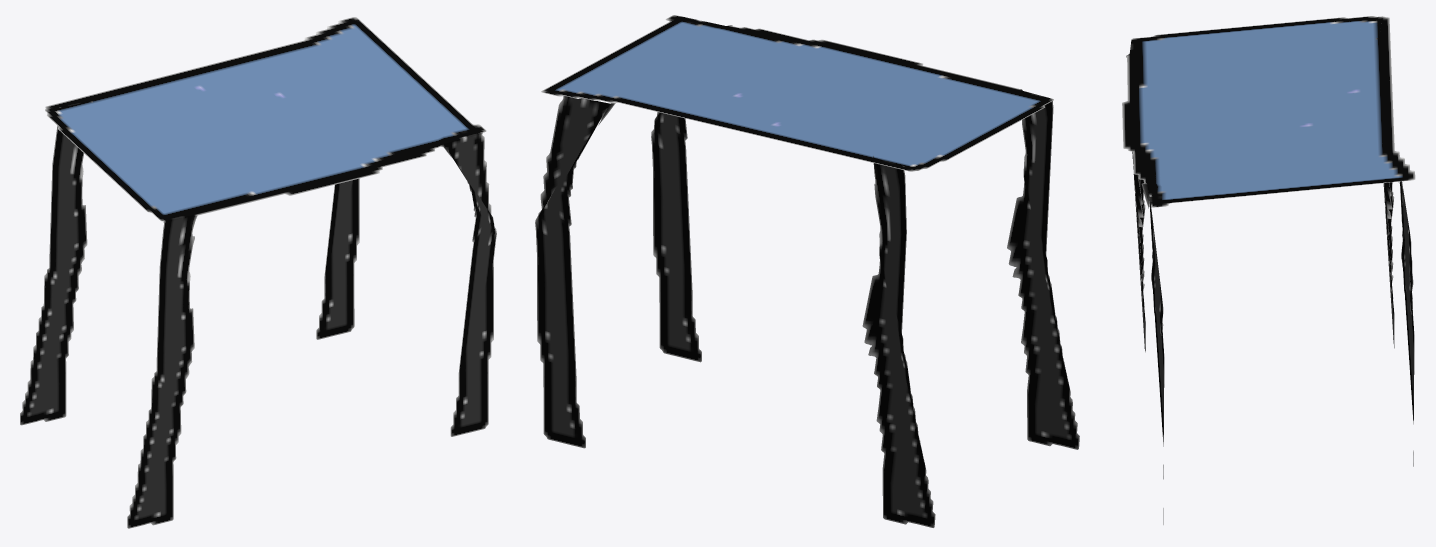
File: deskmath 1.fbx
The picture shows the model from 3 angles, left to right: view 1: azimuth 30°, elevation 25°; view 2: azimuth 150°, elevation 25°; view 3: azimuth 270°, elevation 25°; orthographic projection. The views are drawn at different scales.
Visible parts, largest first — view 1: Cube; view 2: Cube; view 3: Cube.
Boxes of the visible parts, <box> form: Cube: <box>20,17,496,528</box>; Cube: <box>535,15,1079,527</box>; Cube: <box>1122,16,1415,524</box>.
Size of the model in its own units: 174 by 144 by 114.
